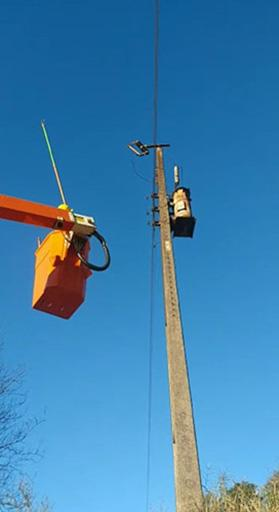Vara_Manobra: (38, 121, 67, 211)
